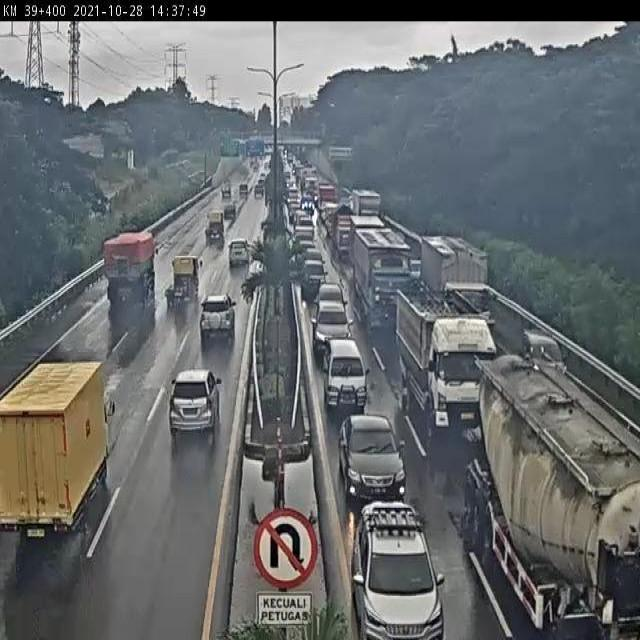car: (351, 492, 438, 636)
truck-l-: (395, 284, 500, 432), (417, 231, 493, 336), (351, 223, 413, 325), (104, 228, 157, 300)
truck-s-: (165, 253, 202, 308), (202, 208, 227, 247)
truck-xl-: (469, 345, 640, 639)
